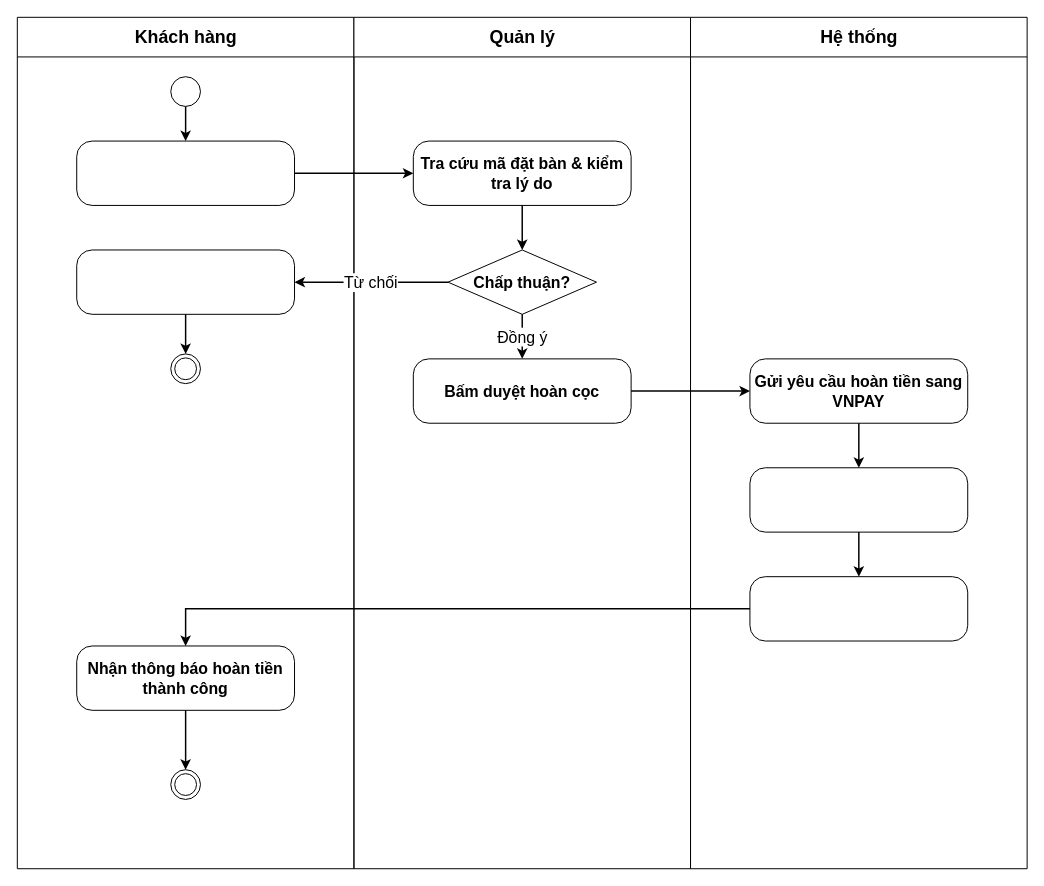
Image size: 1044x886. Some labels were removed from this diagram. Each missing label, with the centre of its shape:
Cập nhật trạng thái hoàn cọc vào CSDL: the point at 858,608
Gửi yêu cầu hoàn tiền: the point at 185,172
Nhận kết quả từ VNPAY: the point at 858,499
Nhận thông báo từ chối hoàn cọc: the point at 185,281
